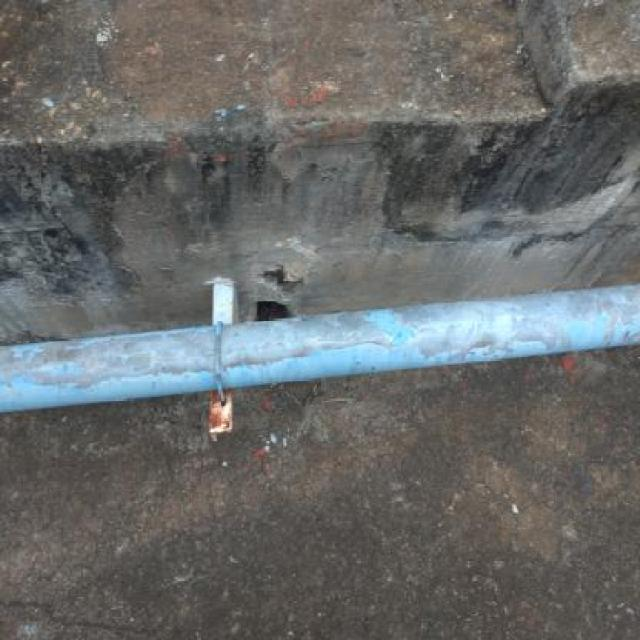gas: (1, 287, 639, 408)
